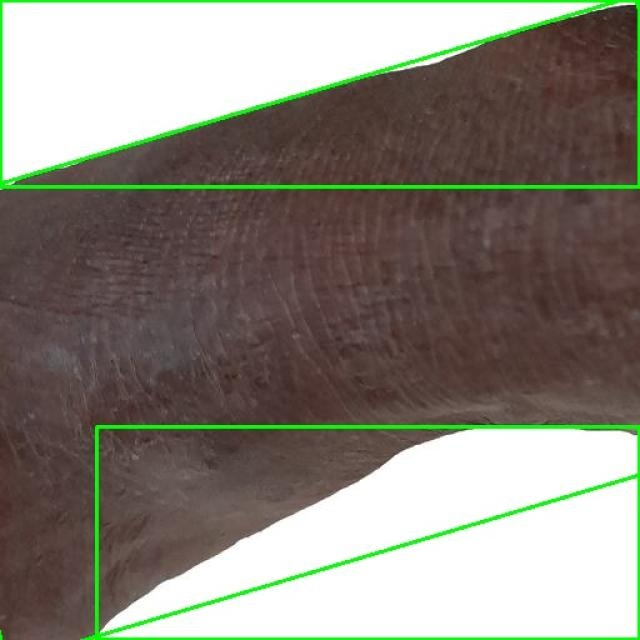Contact Dermatitis: (0, 0, 640, 640), (0, 0, 639, 186), (96, 426, 639, 639)
